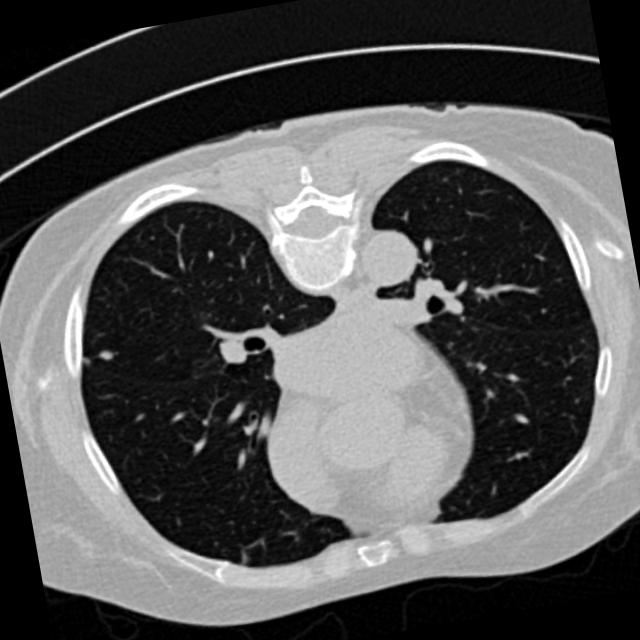nodule: (87, 339, 119, 372)
